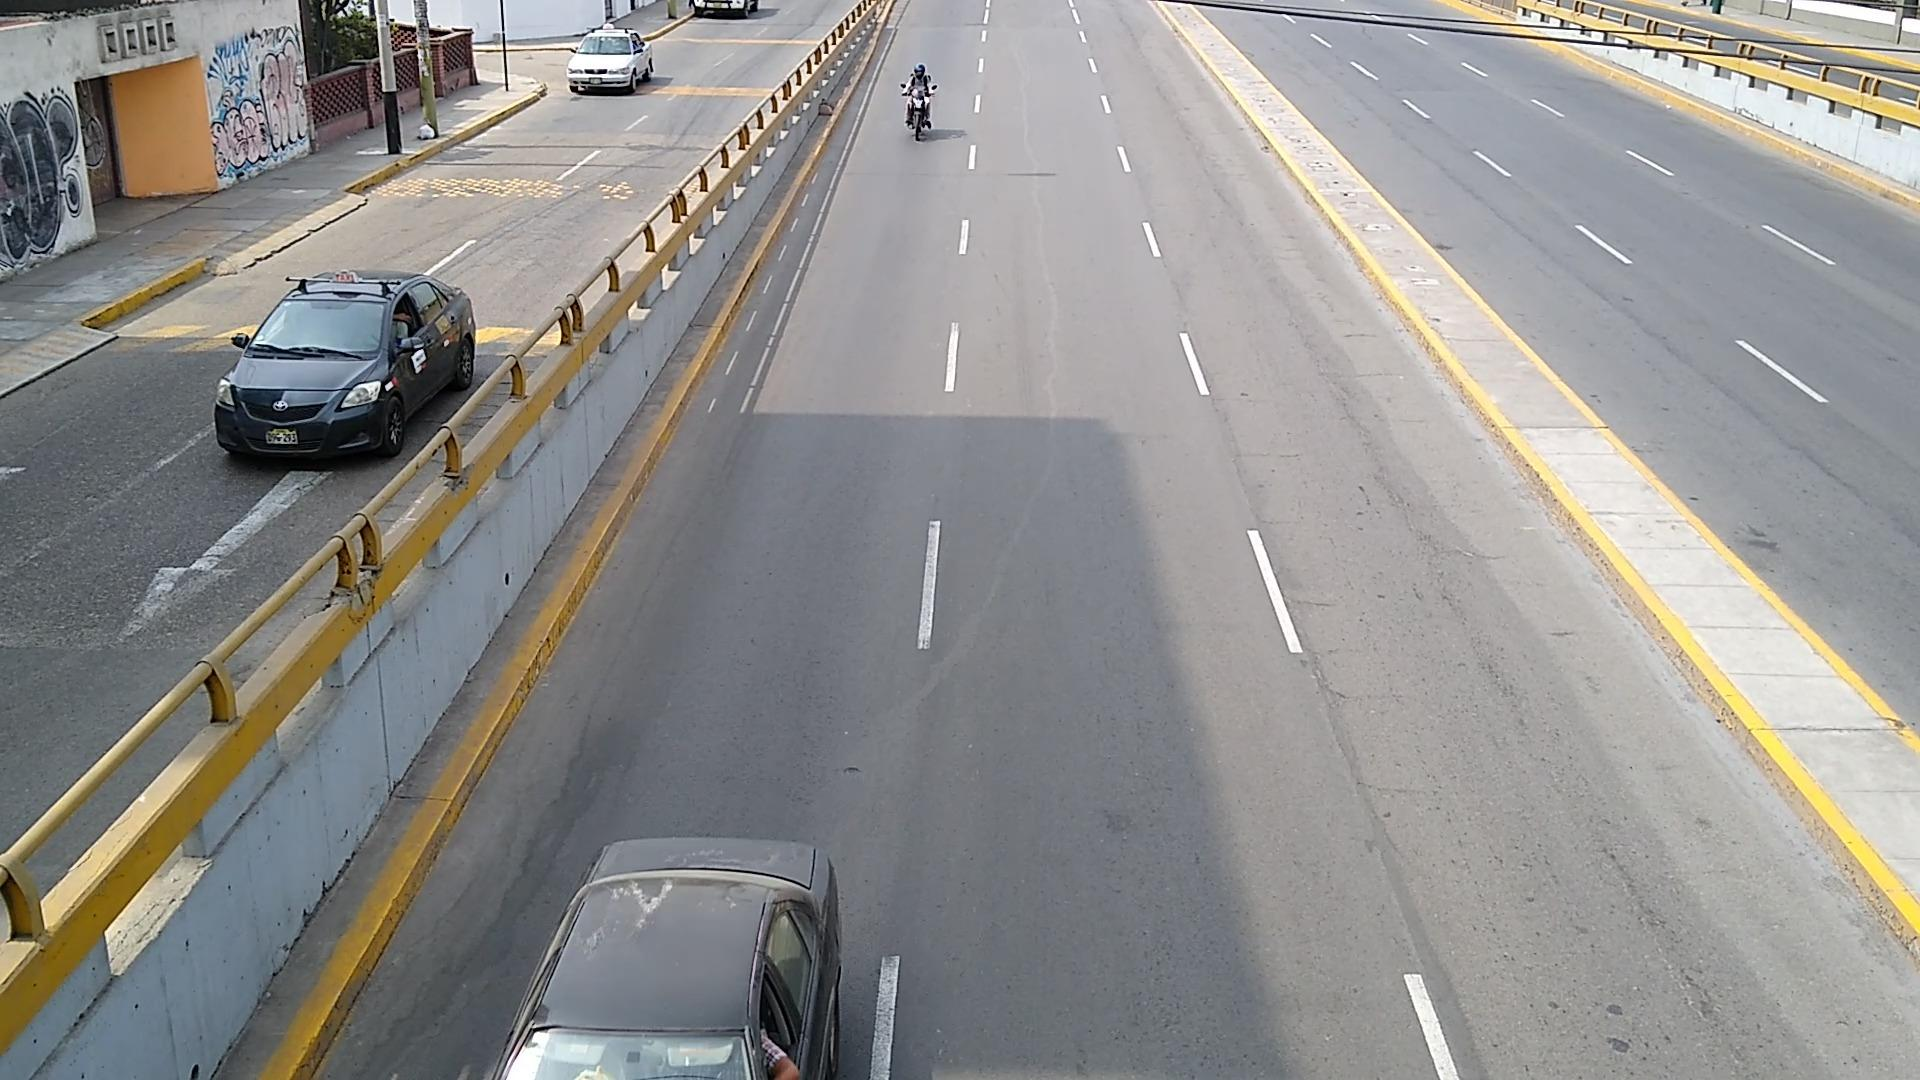car: (495, 840, 840, 1080), (214, 270, 476, 458), (566, 30, 653, 94)
motorcyclist: (899, 63, 938, 137)
